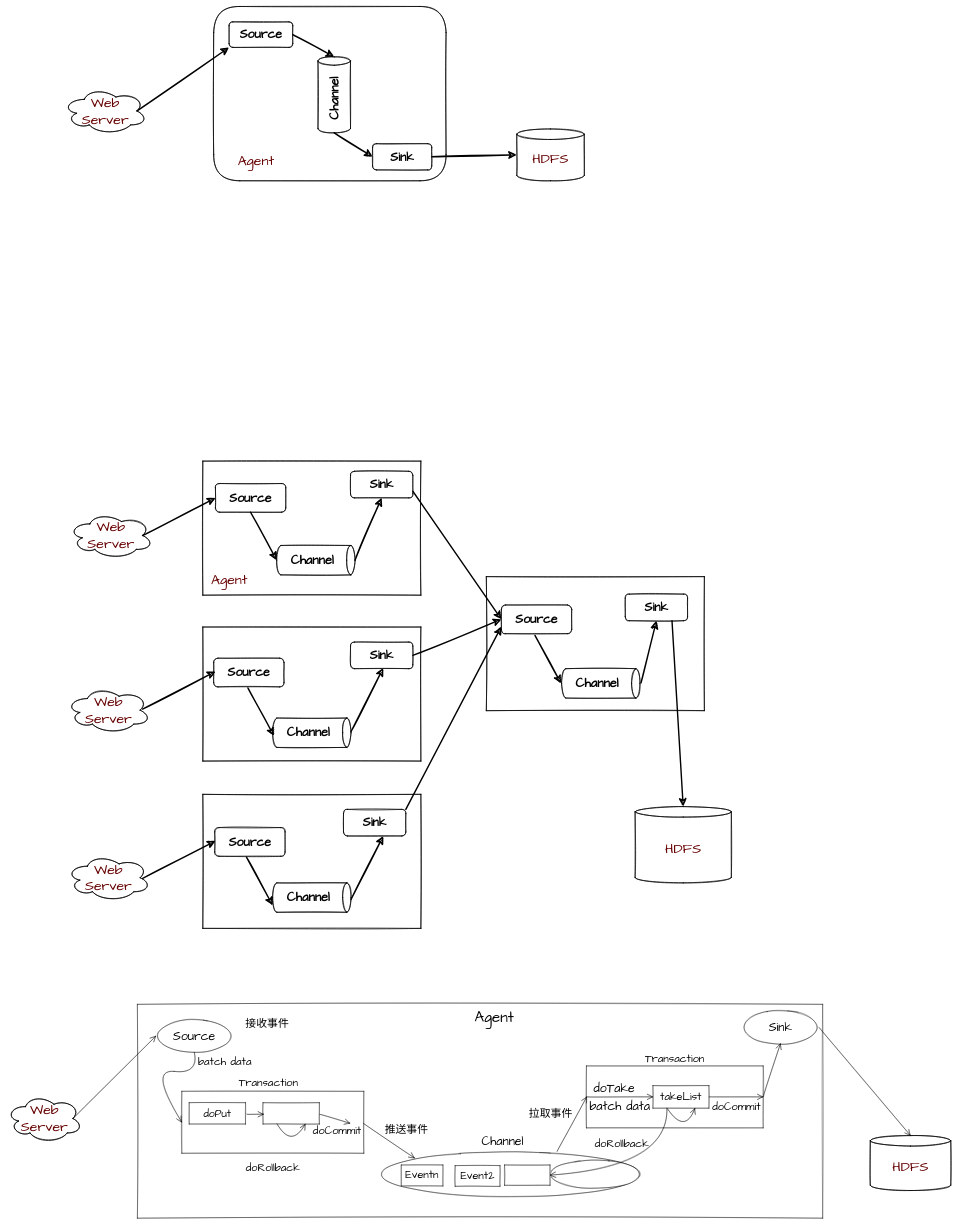
The diagram is 957 pixels wide and 1224 high, and some of its shapes have lost their labels. The shapes that lost their labels are listed below. From the top down, each one's box as (x1, y1, x2, y2) in pixels, then its label:
(263, 1102, 319, 1124): putList
(504, 1165, 550, 1185): Event1
